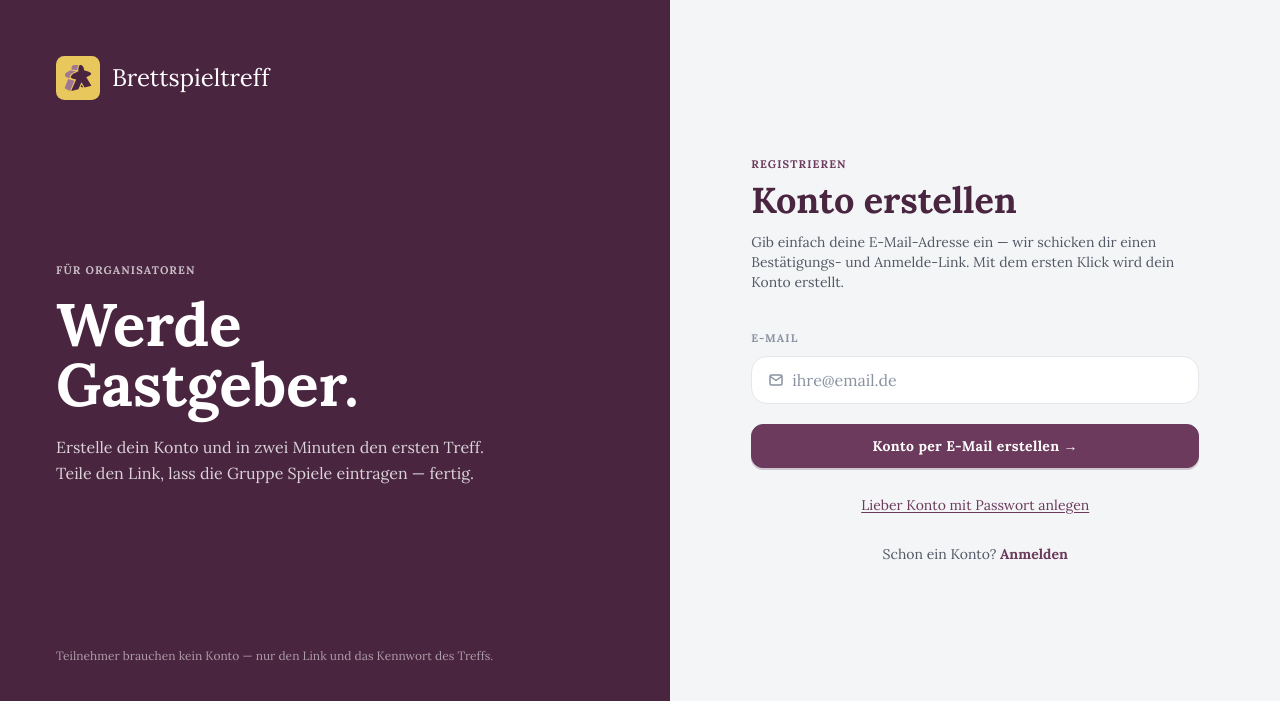
Test: RegisterPage › shows password requirements when password disclosure is open
The image size is (1280, 701).
Click the button "Lieber Konto mit Passwort anlegen": (975, 505) x1=861 y1=495 x2=1089 y2=515
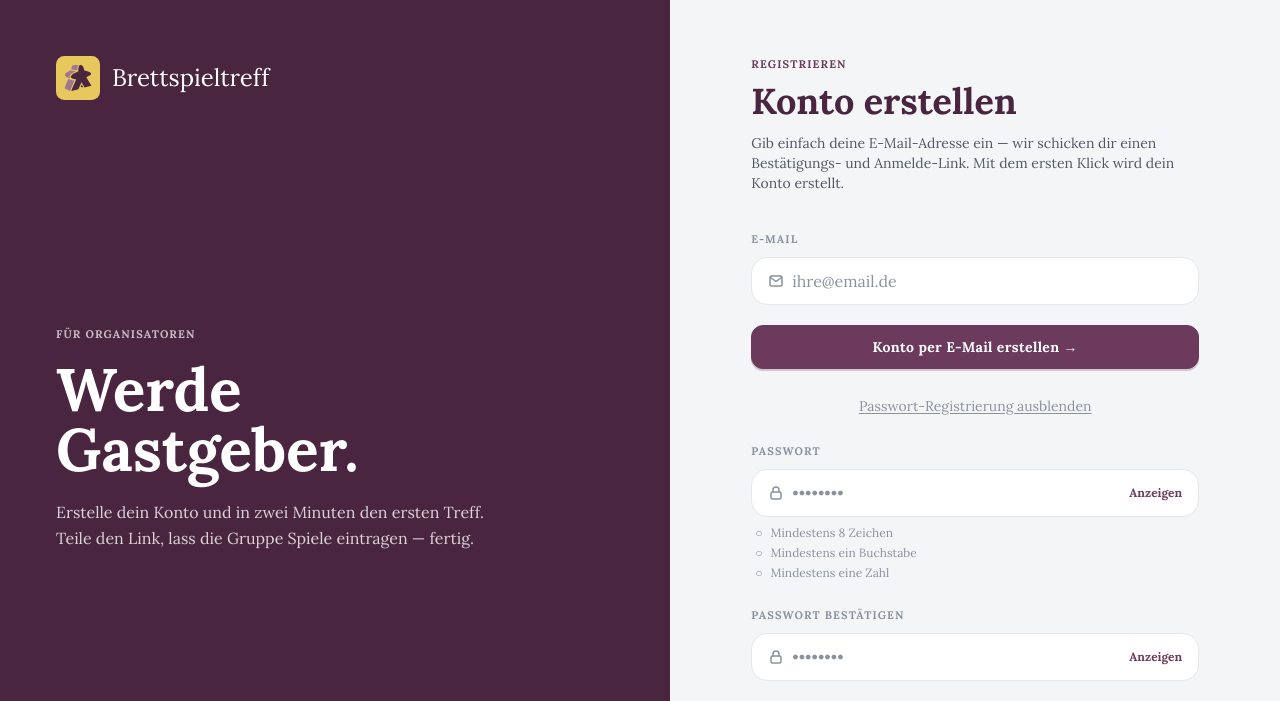
Check: the list item "○ Mindestens 8 Zeichen" is shown, box x1=755 y1=524 x2=893 y2=540
Check: the list item "○ Mindestens ein Buchstabe" is shown, box x1=755 y1=544 x2=917 y2=560
Check: the list item "○ Mindestens eine Zahl" is shown, box x1=755 y1=564 x2=889 y2=580
